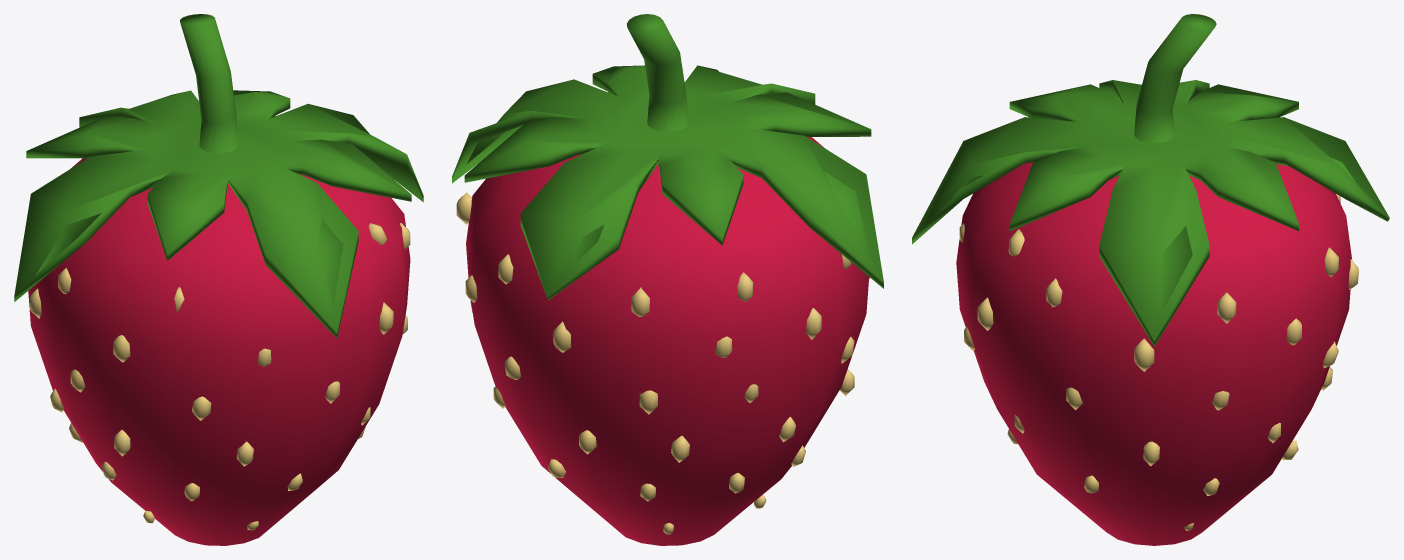
Rendered from strawberry.fbx.
3 views of the same model, side by side, from view 1: azimuth 30°, elevation 25°; view 2: azimuth 150°, elevation 25°; view 3: azimuth 270°, elevation 25° (orthographic). The views are drawn at different scales.
Visible parts, largest first — view 1: Cylinder; view 2: Cylinder; view 3: Cylinder.
Boxes of the visible parts, bbox=[...] form: Cylinder: bbox=[14, 14, 423, 545]; Cylinder: bbox=[452, 14, 883, 545]; Cylinder: bbox=[912, 14, 1389, 545].
Size of the model in its own units: 104 by 125 by 103.
